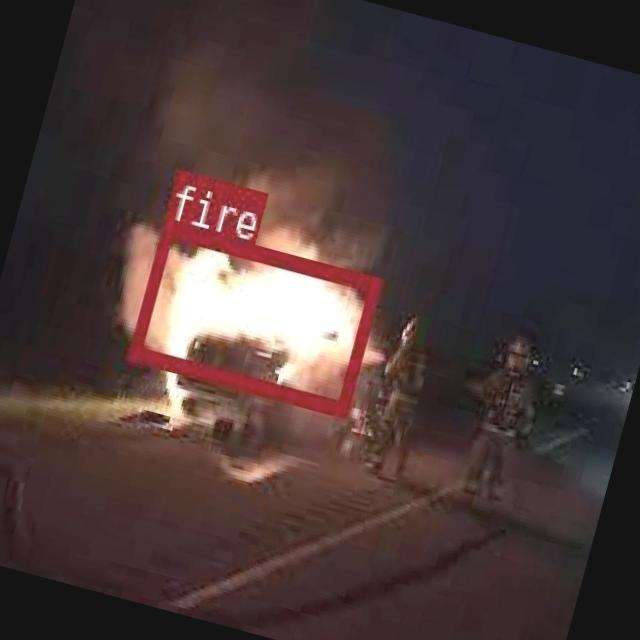fire: (126, 220, 380, 412)
